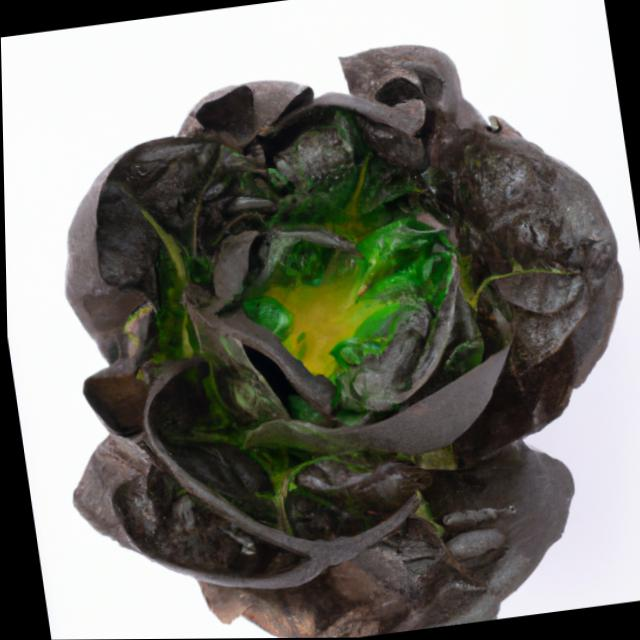-K: (0, 10, 640, 640)
